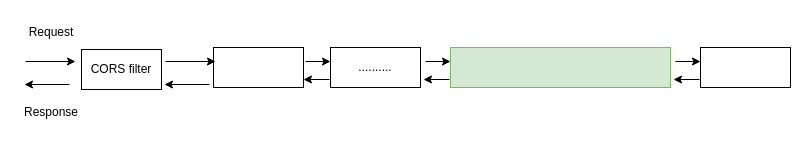
Image size: 808x144. Some labels were removed from this diagram. Here are the shapes that lost their labels. From the top down, the centre of each, then its label:
At point (258, 67): "CSRF filter".
At point (560, 67): "OAuth2LoginAuthenticationFilter".
